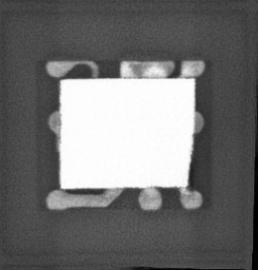DIE_BROKEN: (185, 155, 197, 189)
